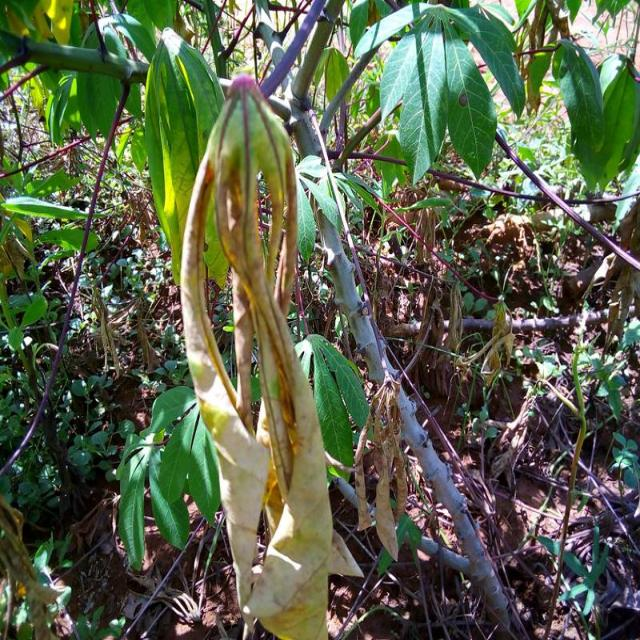cassava leaf: (178, 71, 350, 638), (144, 26, 230, 288), (379, 8, 498, 186)
